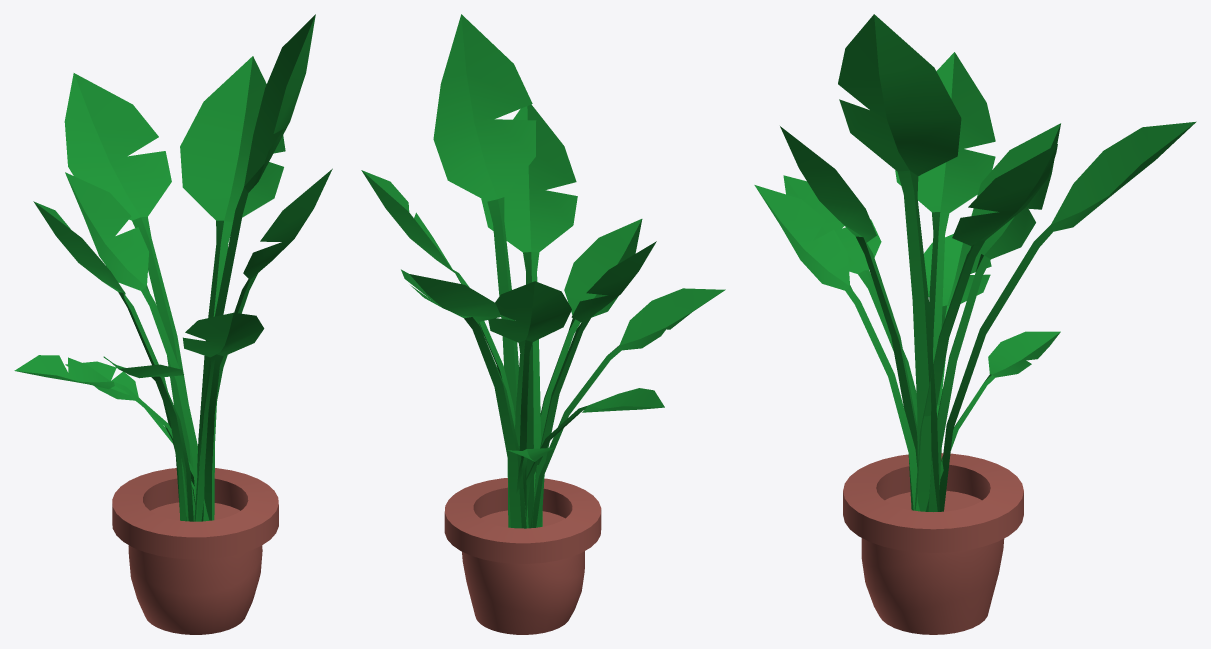
File: Plant.fbx
The picture shows the model from 3 angles, left to right: view 1: azimuth 30°, elevation 25°; view 2: azimuth 150°, elevation 25°; view 3: azimuth 270°, elevation 25°; orthographic projection. The views are drawn at different scales.
Visible parts, largest first — view 1: Plant; view 2: Plant; view 3: Plant.
Part boxes in pixels (left/top/right/bottom): Plant: left=14, top=14, right=332, bottom=634; Plant: left=361, top=14, right=725, bottom=634; Plant: left=754, top=14, right=1196, bottom=634.
Size of the model in its own units: 1.13 by 2.29 by 1.42.
